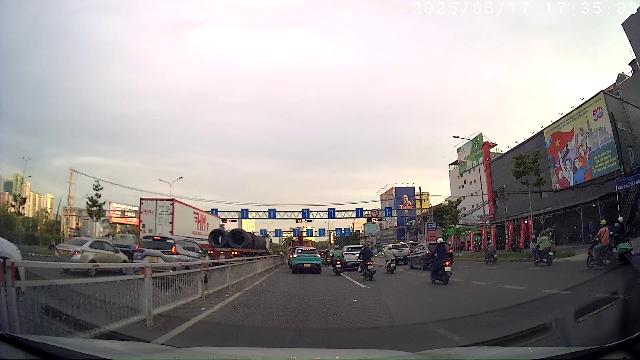123a-cam-re-trai: (370, 209, 380, 218)
